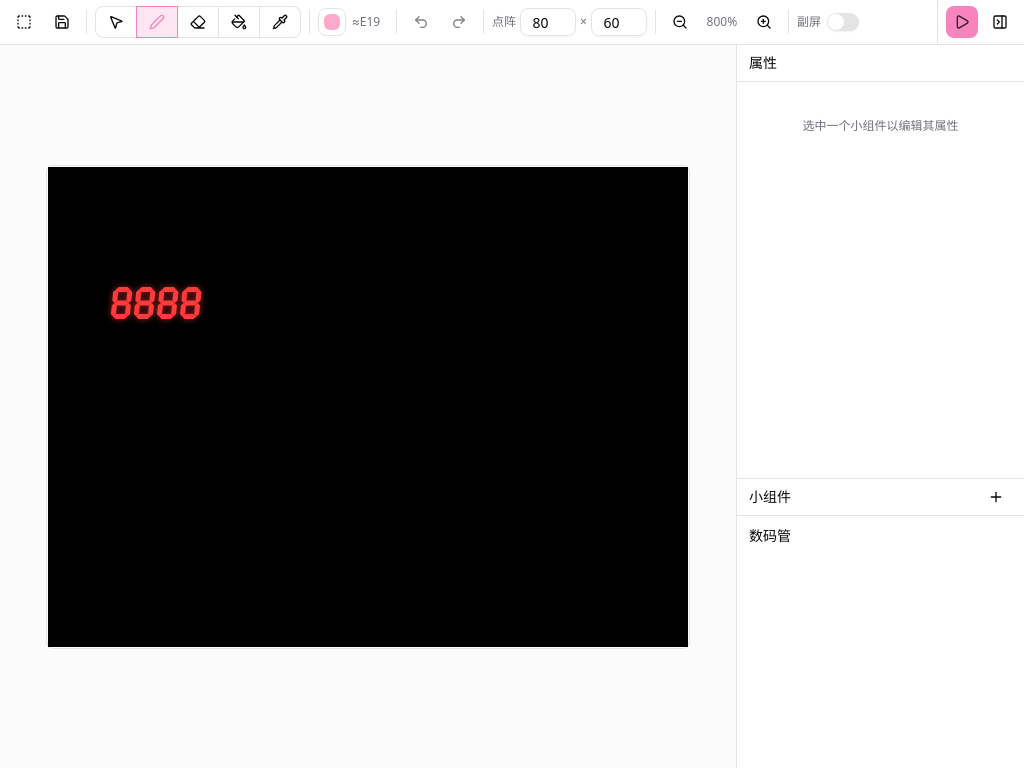
EditorPage — 缩放 › 自适应状态下点击放大，从当前显示倍率继续而不是回到旧手动值
The width and height of the screenshot is (1024, 768).
Expected: the text with test id "zoom-label" reads "800%", [707, 13, 737, 30]
Step 1. Click the button named "放大" → (764, 22), box [748, 6, 780, 38]
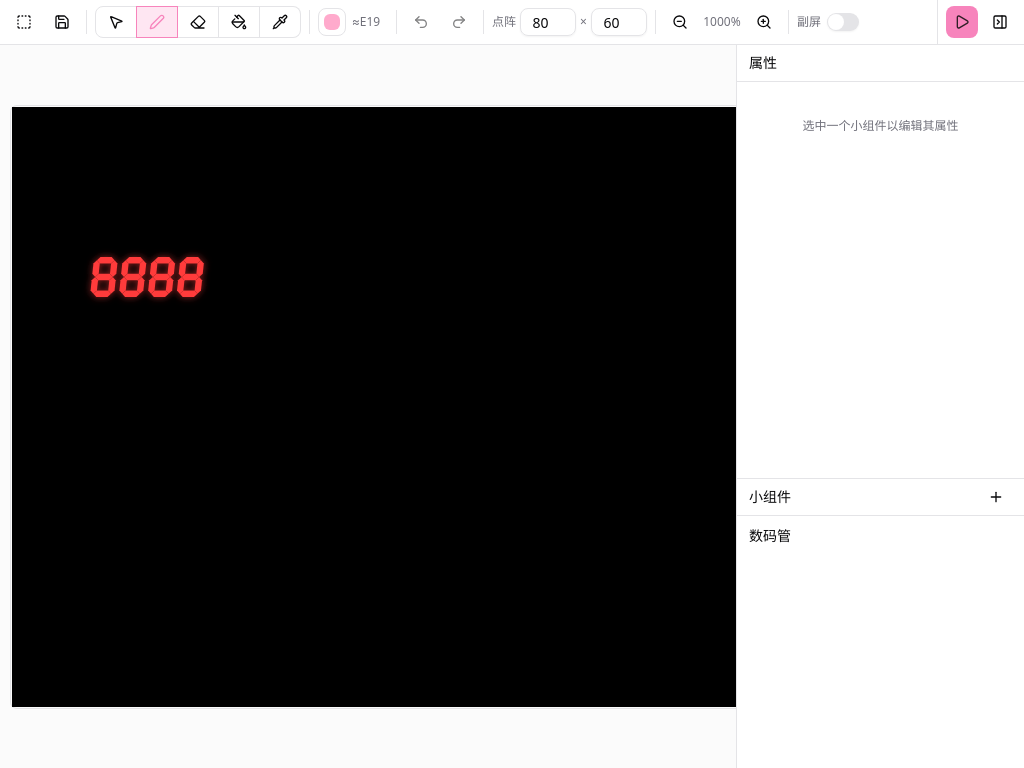
Result: the text with test id "zoom-label" reads "1000%" at [703, 13, 741, 30]
